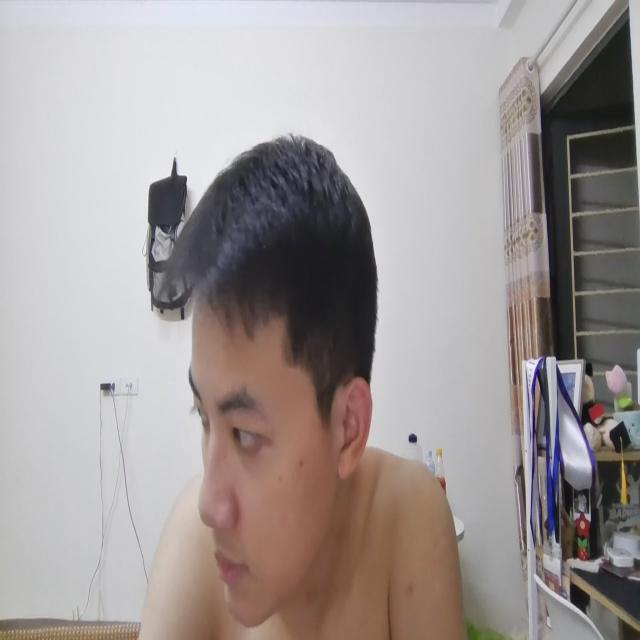student: (146, 123, 460, 640)
